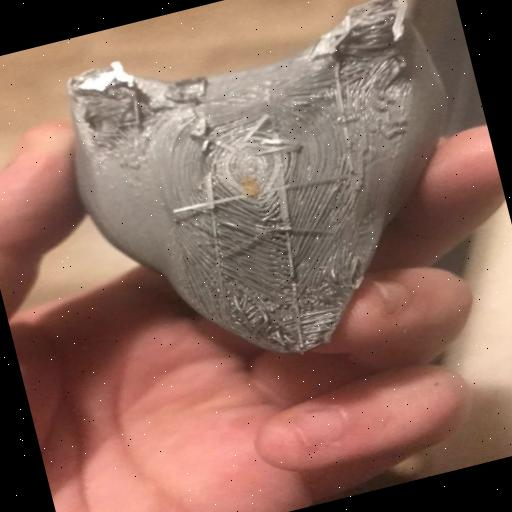cracks: (215, 242, 388, 369), (311, 0, 434, 144), (72, 47, 220, 166)
